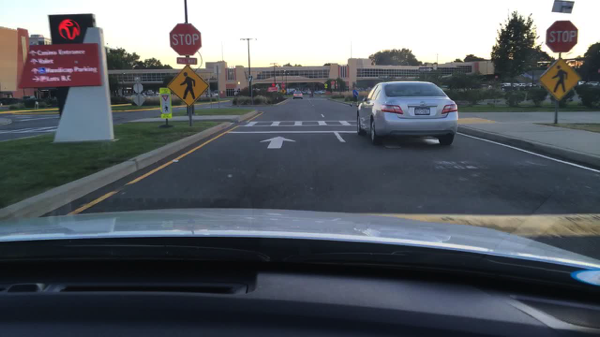car: (356, 81, 459, 146), (114, 88, 139, 97), (499, 82, 513, 90), (511, 81, 525, 88), (292, 92, 304, 100), (577, 79, 586, 87), (141, 91, 152, 97), (203, 91, 213, 97), (586, 82, 598, 87), (319, 88, 327, 95), (526, 82, 535, 88), (301, 89, 308, 96), (211, 92, 220, 97), (535, 82, 541, 89), (313, 89, 321, 94), (306, 90, 313, 95), (293, 89, 301, 93), (154, 92, 162, 96)
traffic sign: (17, 43, 102, 89), (168, 64, 210, 106), (539, 62, 577, 100), (169, 23, 203, 56), (544, 20, 578, 52), (159, 88, 172, 118), (133, 94, 147, 107), (176, 57, 198, 65), (133, 82, 144, 94), (267, 87, 278, 92), (246, 75, 255, 81), (279, 81, 286, 88), (270, 81, 277, 88), (329, 81, 334, 90), (323, 83, 329, 89), (280, 89, 287, 93)
